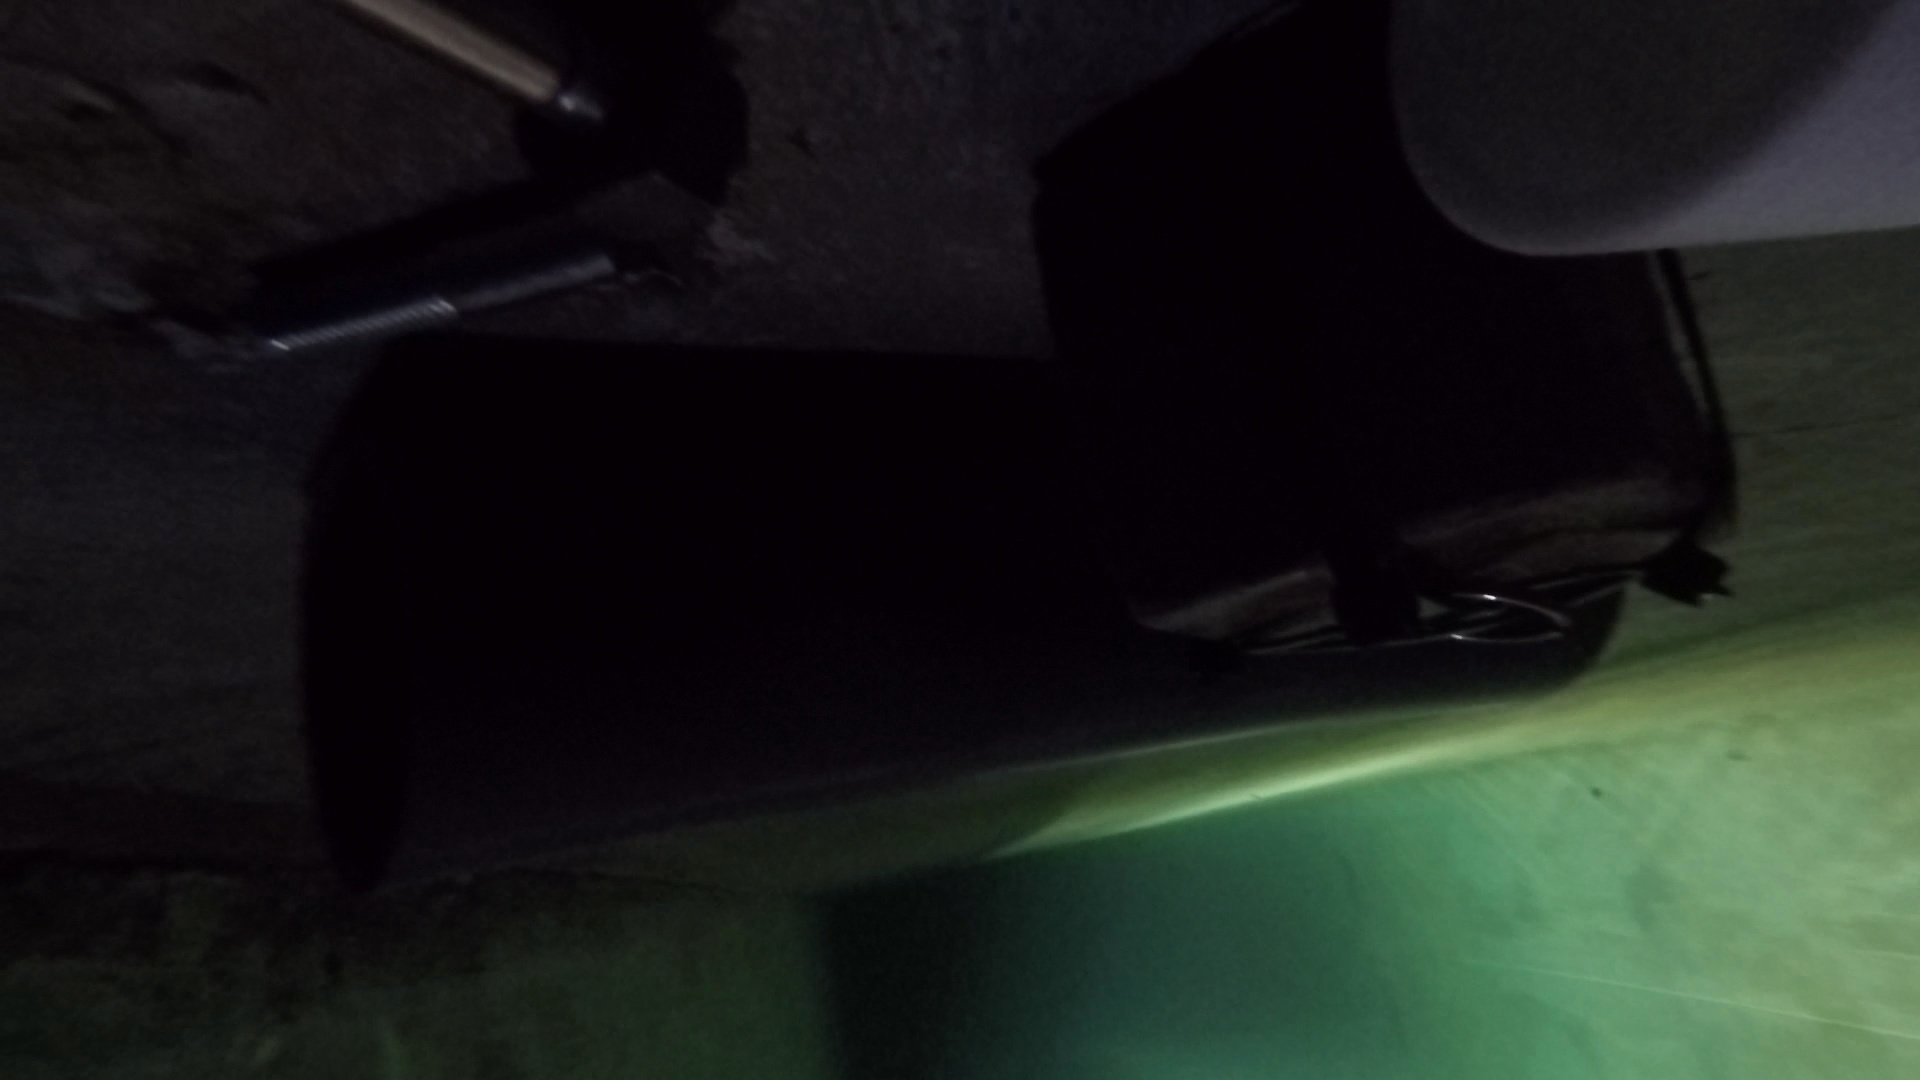bolt: (256, 233, 683, 351), (327, 1, 597, 113)
led_block: (1034, 138, 1742, 659)
nut: (567, 82, 737, 229)
pipe: (303, 360, 1625, 893), (1385, 1, 1919, 262)
